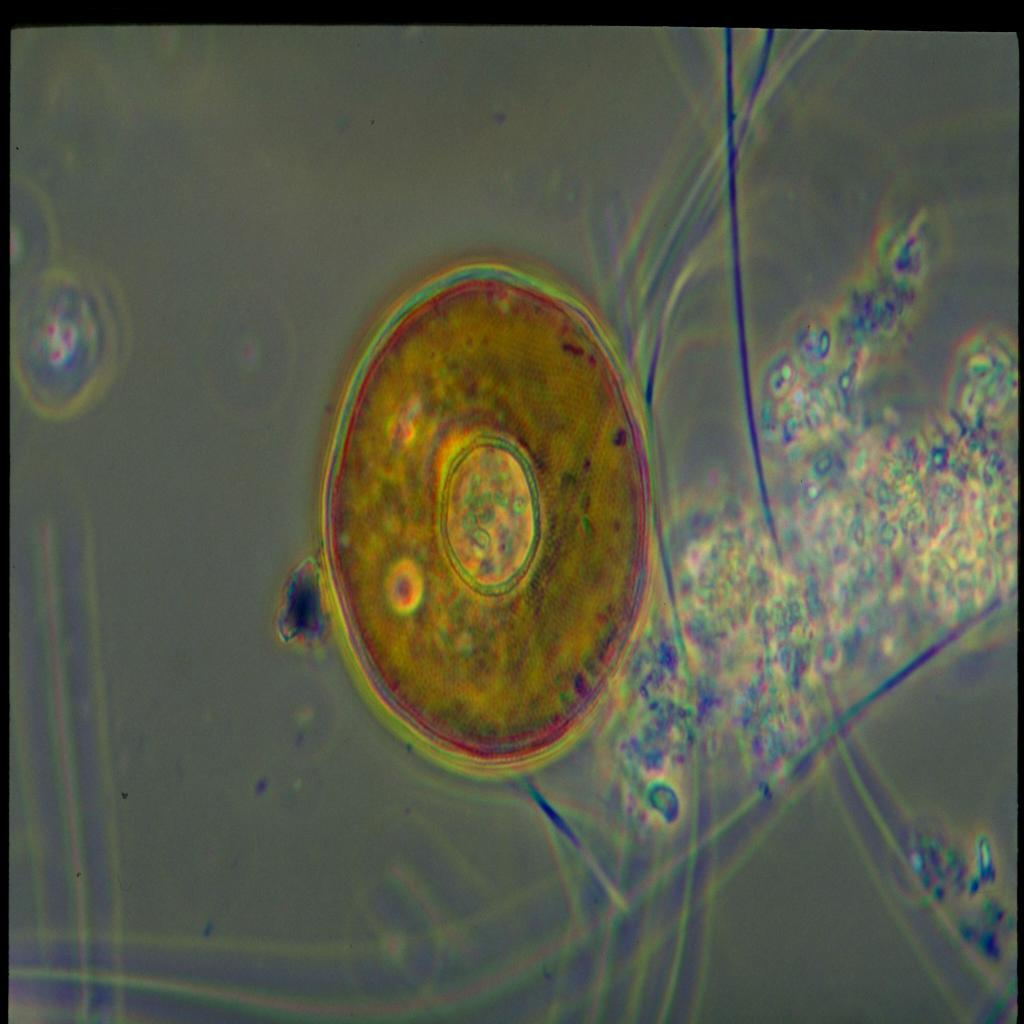Arcella: (308, 254, 671, 772)
